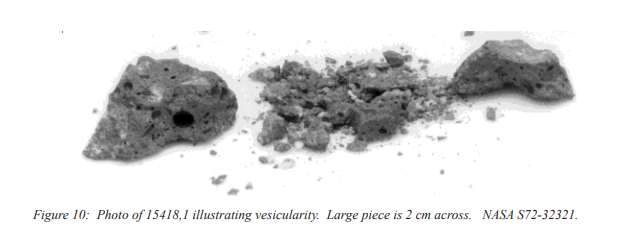Breccia: (88, 48, 236, 180), (263, 50, 423, 150), (447, 36, 585, 105)
